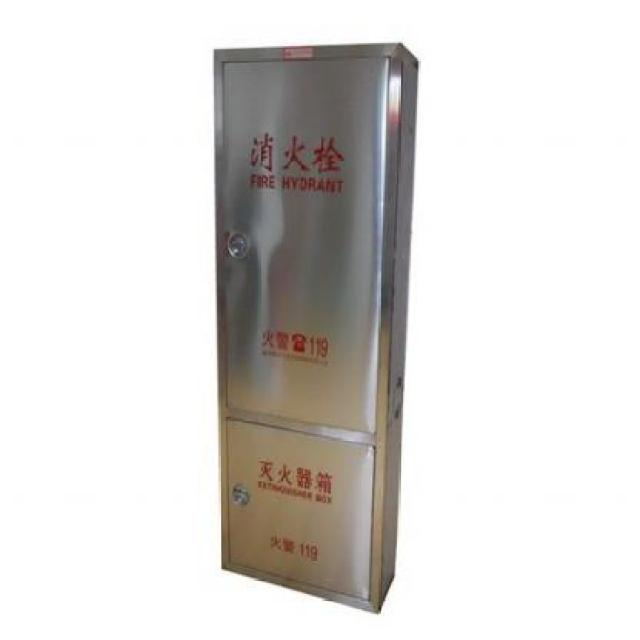firehydrant: (209, 36, 424, 620)
